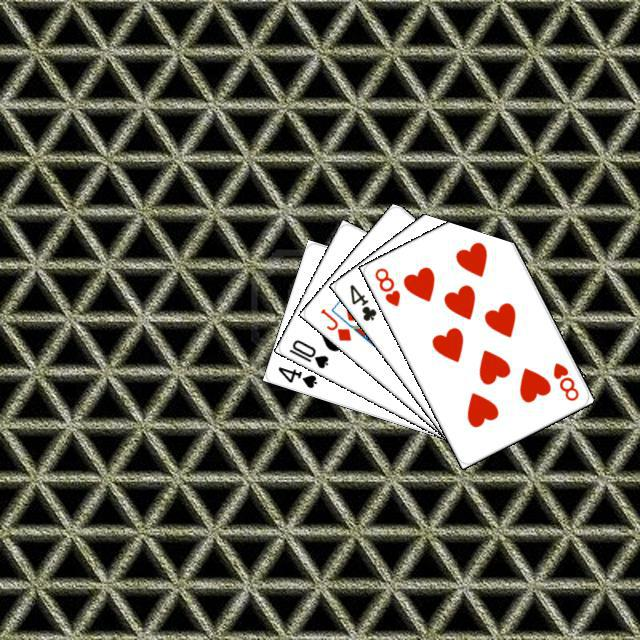10s: (284, 334, 330, 370)
4c: (344, 279, 378, 323)
4s: (273, 362, 319, 390)
8h: (370, 263, 402, 308), (548, 358, 580, 403)
Jd: (315, 303, 353, 343)
